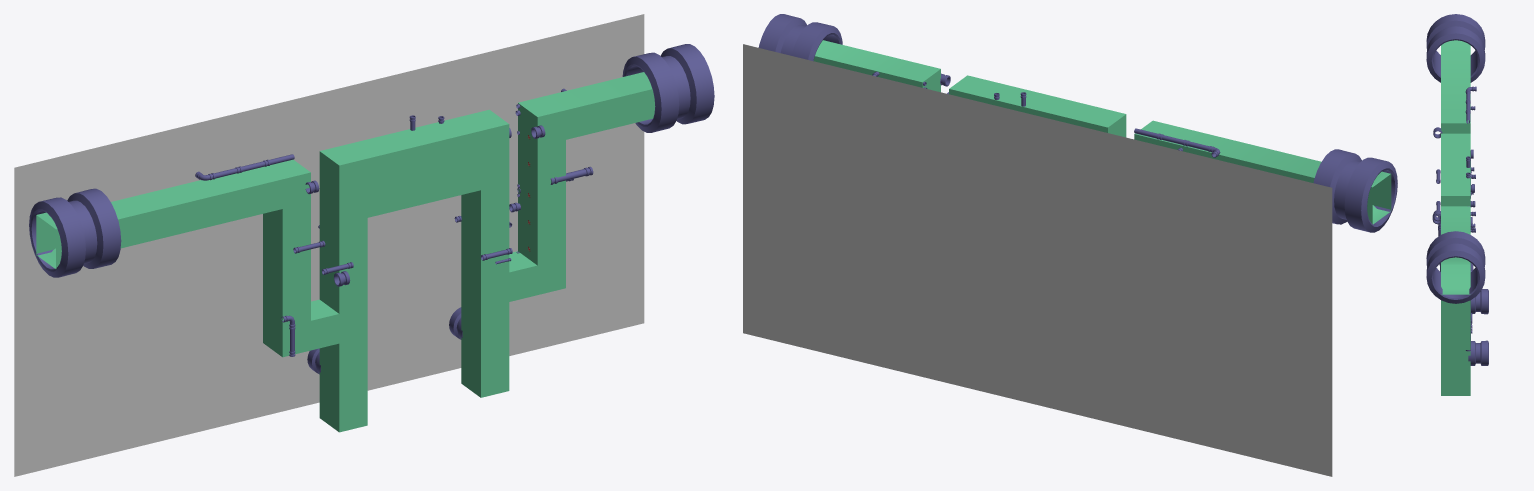
Rendered from lvl2escape.fbx.
3 renders of one model, left to right at view 1: azimuth 30°, elevation 25°; view 2: azimuth 150°, elevation 25°; view 3: azimuth 270°, elevation 25°, orthographic. The views are drawn at different scales.
Visible parts, largest first — view 1: lv_2_escape, mida_canvi_1unitat; view 2: lv_2_escape, mida_canvi_1unitat; view 3: mida_canvi_1unitat.
Part boxes in pixels (x1,y1,x2,y2): lv_2_escape: (14,14,644,476); mida_canvi_1unitat: (29,44,714,432); lv_2_escape: (743,44,1332,476); mida_canvi_1unitat: (758,14,1397,232); mida_canvi_1unitat: (1426,14,1488,395).
Bounding box in the file's own units: 86.02 × 39.02 × 14.18.
